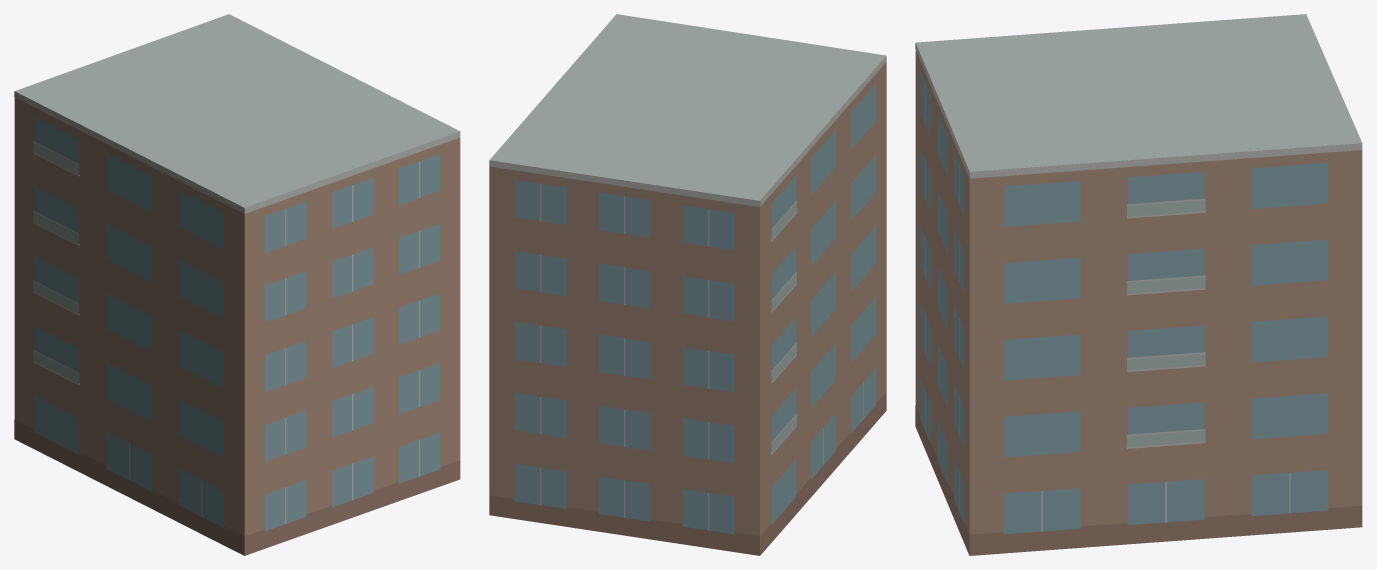
The model's file is survey-upis-32892274.glb.
3 renders of one model, left to right at view 1: azimuth 30°, elevation 25°; view 2: azimuth 150°, elevation 25°; view 3: azimuth 270°, elevation 25°, orthographic. The views are drawn at different scales.
Parts seen in each view (by area): view 1: survey-upis-32892274.tmp; view 2: survey-upis-32892274.tmp; view 3: survey-upis-32892274.tmp.
Boxes of the visible parts, box(x1,y1,x2,y2) form: survey-upis-32892274.tmp: box(14, 14, 460, 555); survey-upis-32892274.tmp: box(489, 14, 886, 555); survey-upis-32892274.tmp: box(915, 14, 1362, 555).
Bounding box in the file's own units: 12.18 × 13.8 × 14.57.
